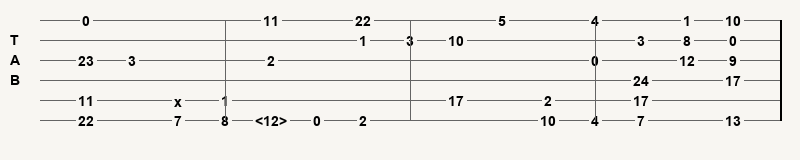0: (82, 13, 94, 27), (313, 113, 325, 127), (591, 53, 603, 67), (729, 33, 741, 47)
1: (221, 93, 233, 107), (359, 33, 371, 47), (683, 13, 695, 27)
10: (448, 33, 468, 47), (540, 113, 560, 127), (725, 13, 745, 27)
11: (78, 93, 98, 107), (263, 13, 283, 27)
12: (679, 53, 699, 67)
13: (725, 113, 745, 127)
17: (448, 93, 468, 107), (633, 93, 653, 107), (725, 73, 745, 87)
2: (267, 53, 279, 67), (359, 113, 371, 127), (544, 93, 556, 107)
22: (78, 113, 98, 127), (355, 13, 375, 27)
23: (78, 53, 98, 67)
24: (633, 73, 653, 87)
3: (128, 53, 140, 67), (406, 33, 418, 47), (637, 33, 649, 47)
4: (591, 13, 603, 27), (591, 113, 603, 127)
5: (498, 13, 510, 27)
7: (174, 113, 186, 127), (637, 113, 649, 127)
8: (221, 113, 233, 127), (683, 33, 695, 47)
9: (729, 53, 741, 67)
harmonic: (255, 113, 291, 127)
x: (174, 94, 186, 106)
